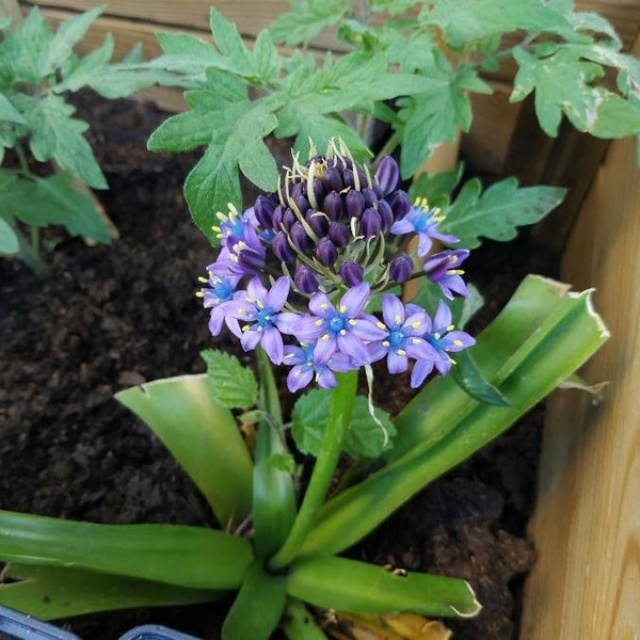obstacle: (125, 139, 550, 591)
